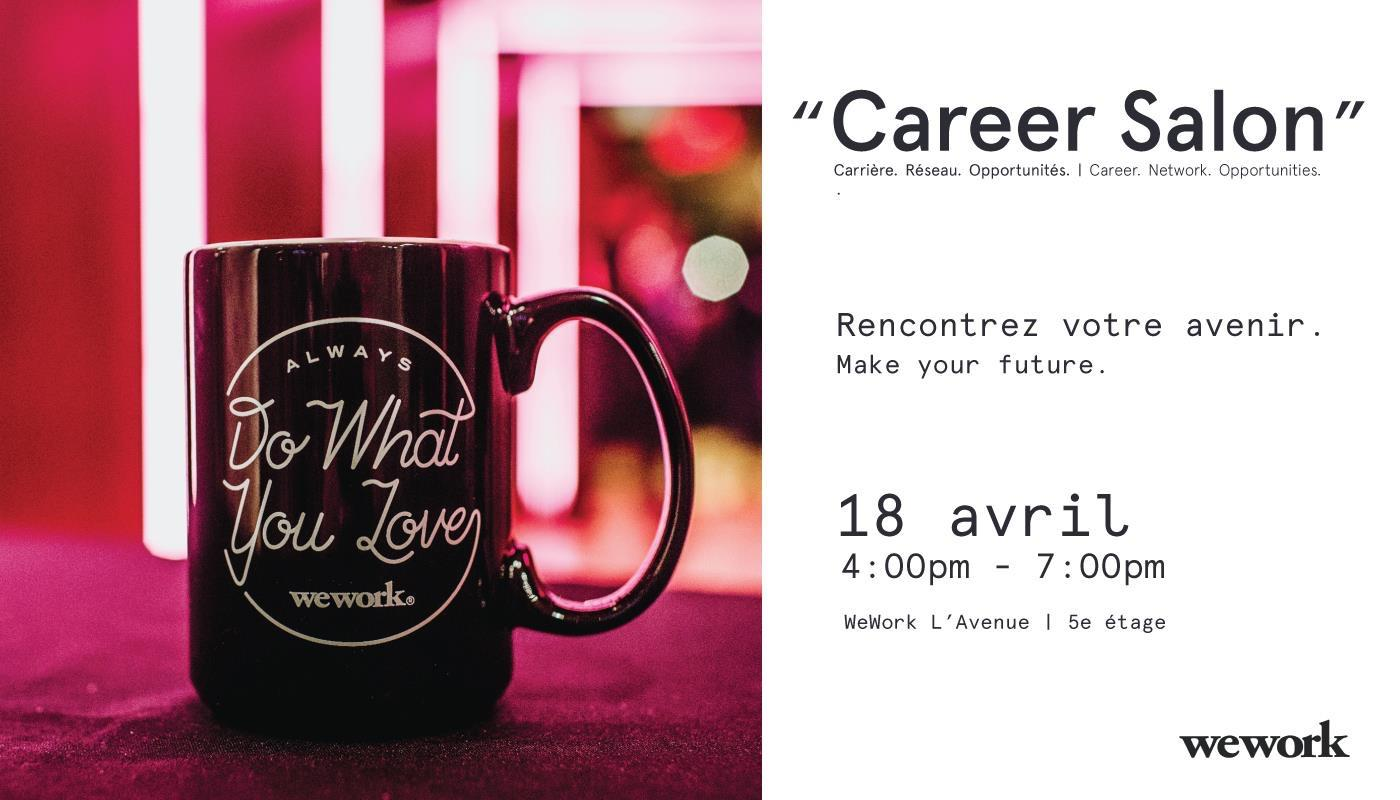wework: (285, 579, 407, 610)
